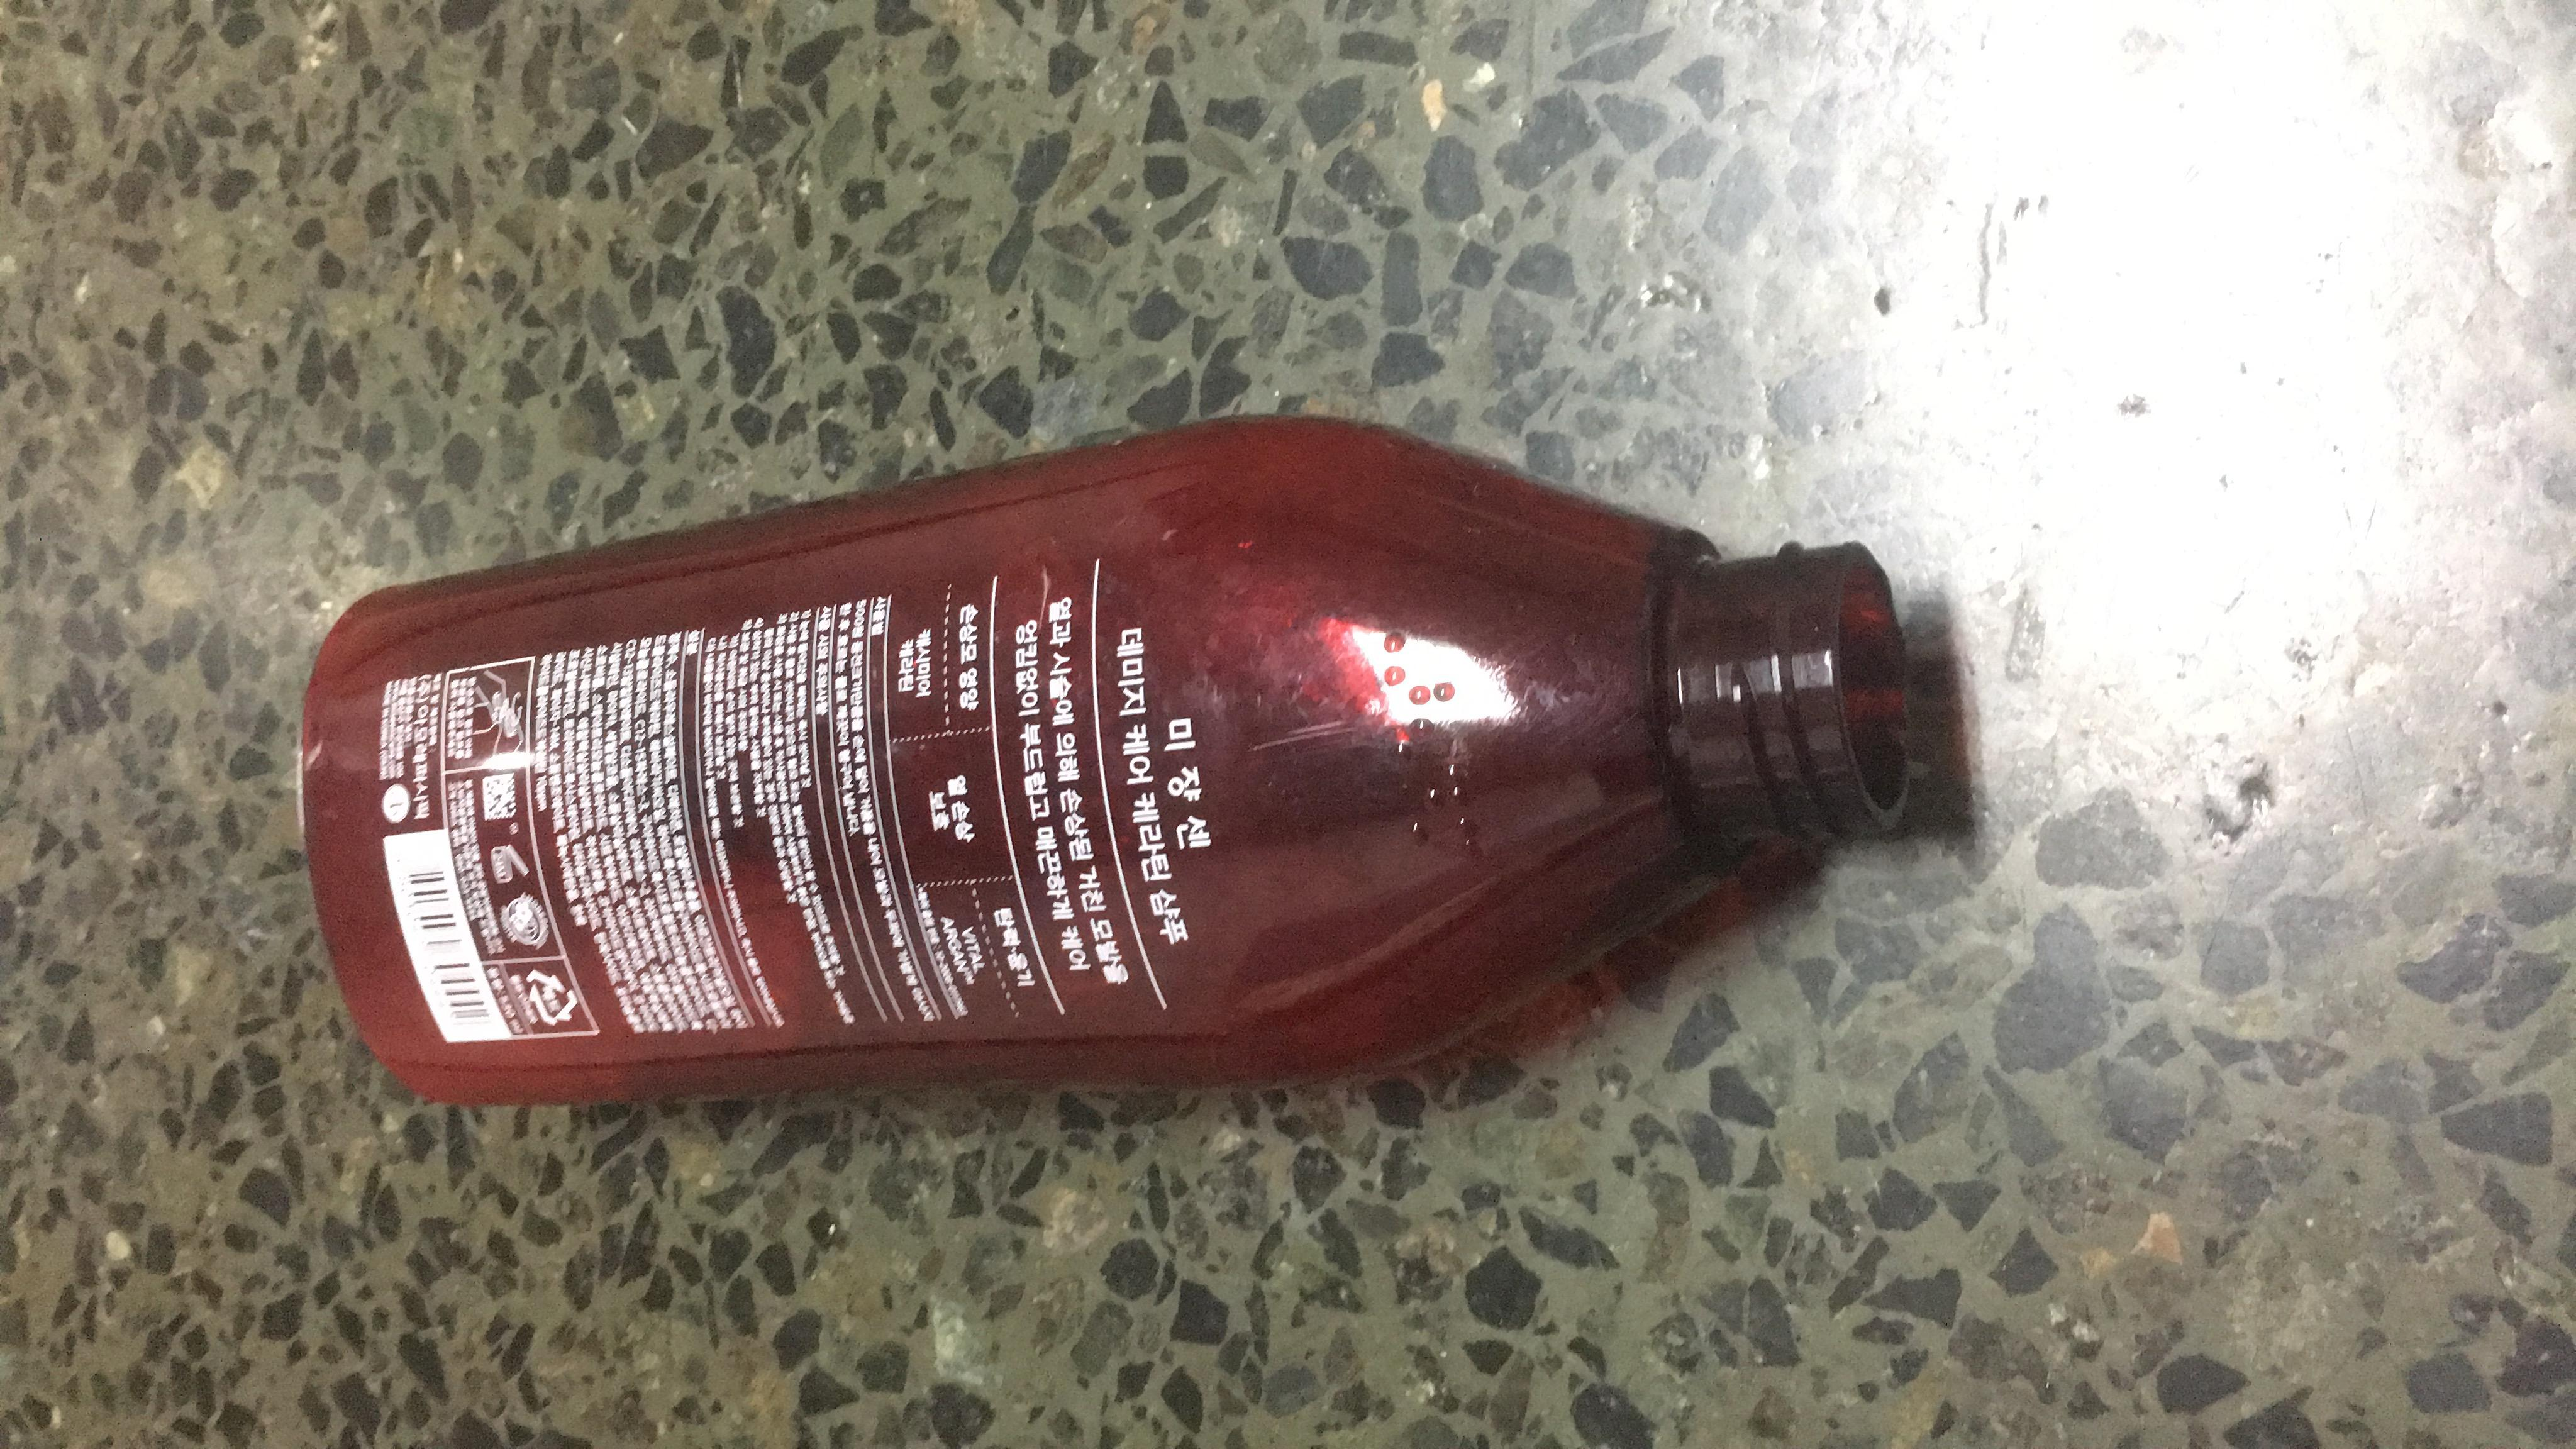bottle: (522, 159, 1836, 1097)
